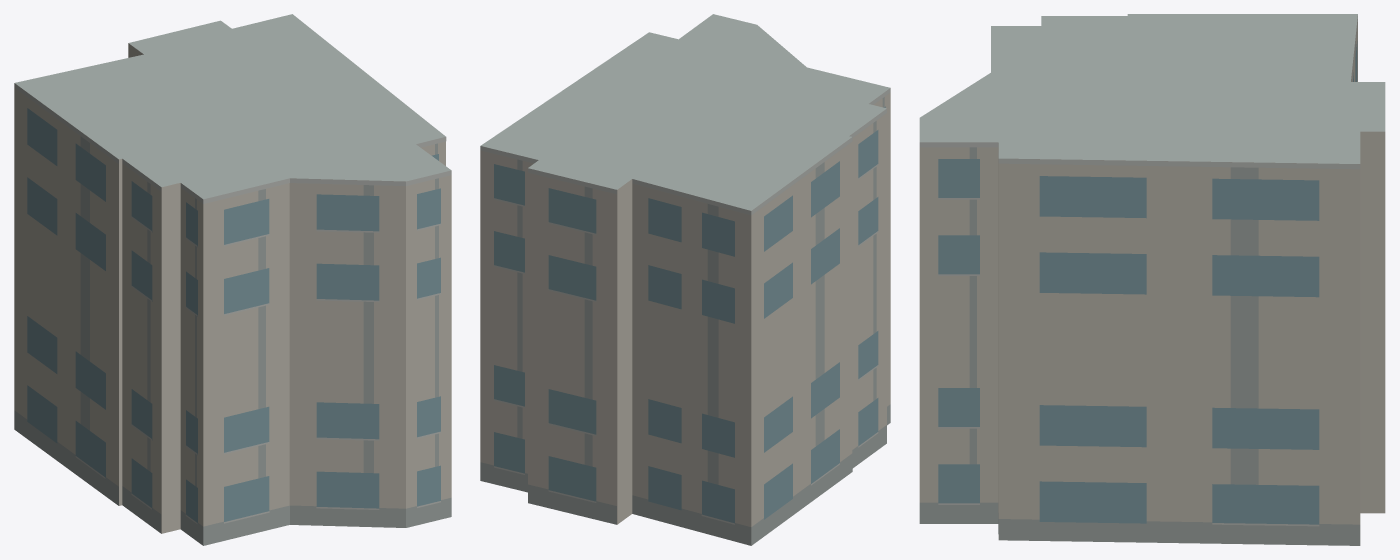
Rendered from survey-upis-32487126.glb.
3 renders of one model, left to right at view 1: azimuth 30°, elevation 25°; view 2: azimuth 150°, elevation 25°; view 3: azimuth 270°, elevation 25°, orthographic. The views are drawn at different scales.
Parts seen in each view (by area): view 1: survey-upis-32487126.tmp; view 2: survey-upis-32487126.tmp; view 3: survey-upis-32487126.tmp.
Boxes of the visible parts, <box> form: survey-upis-32487126.tmp: <box>14,14,451,545</box>; survey-upis-32487126.tmp: <box>480,14,890,545</box>; survey-upis-32487126.tmp: <box>919,14,1385,545</box>.
Size of the model in its own units: 15.2 by 18 by 19.92.
